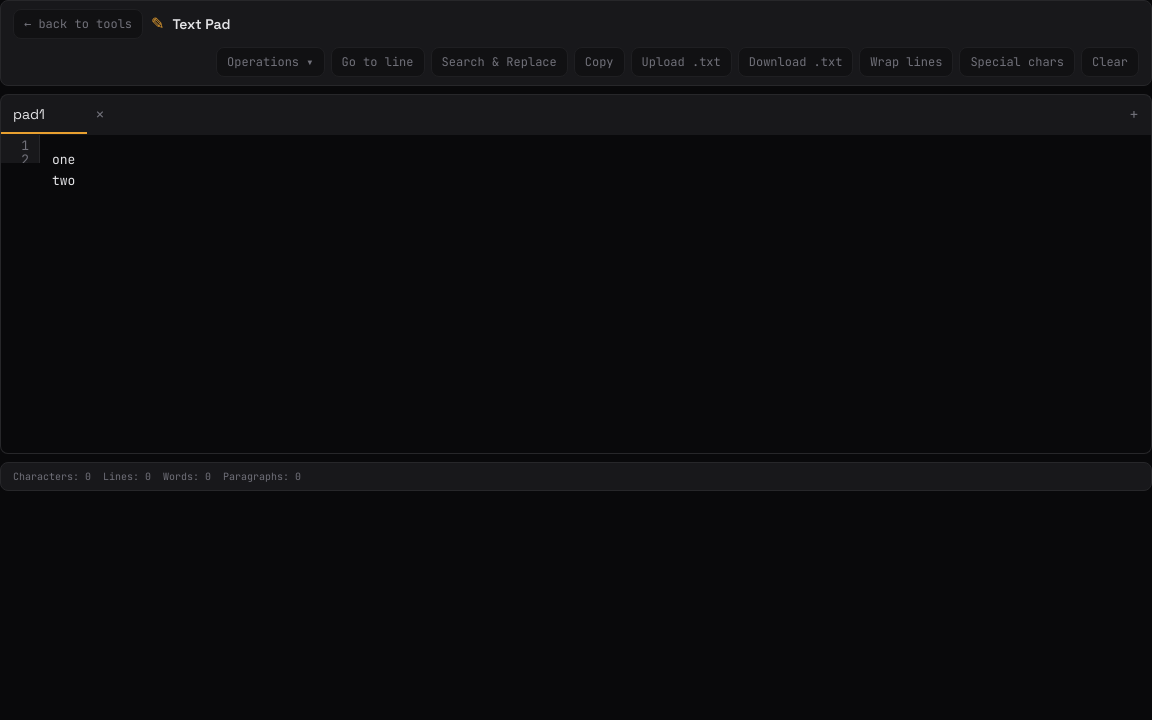
Scenario: TextPadView › shows an error for a line outside the document
Check: the element with class "cm-editor" is shown, box [1, 135, 1151, 206]
Click the button "Go to line".
click(378, 62)  # box [330, 47, 424, 77]
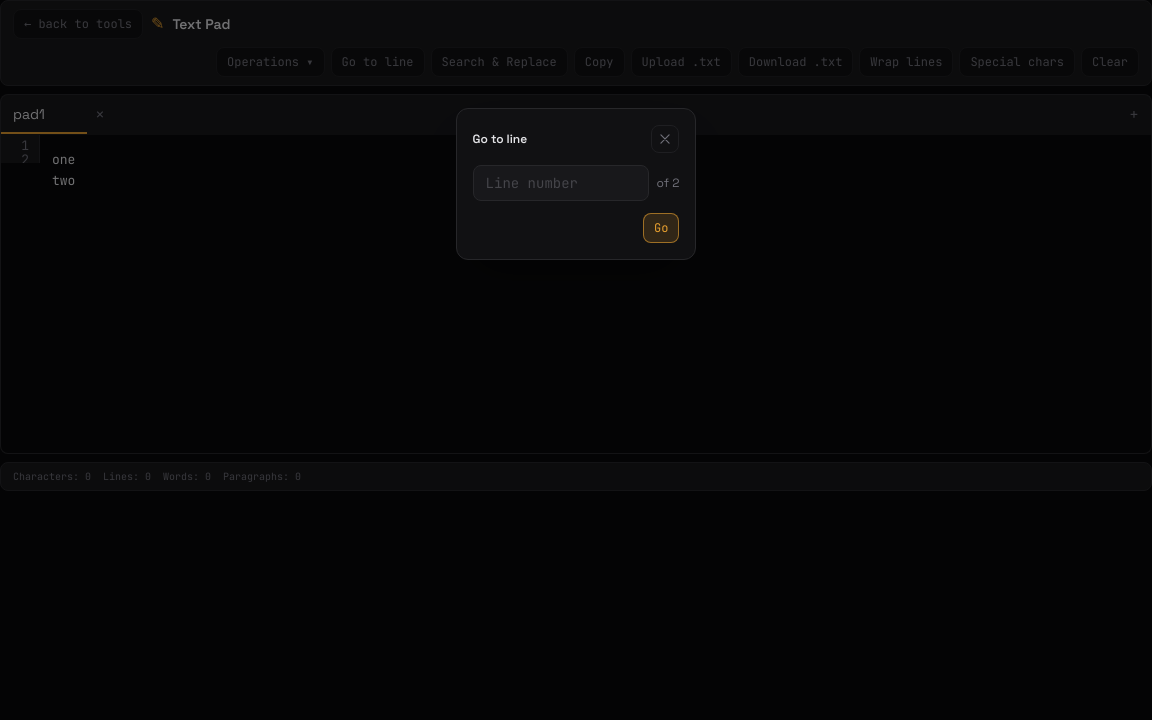
Type "3" into the field with placeholder "Line number".
click(561, 183); type("3")  # box [473, 165, 649, 201]
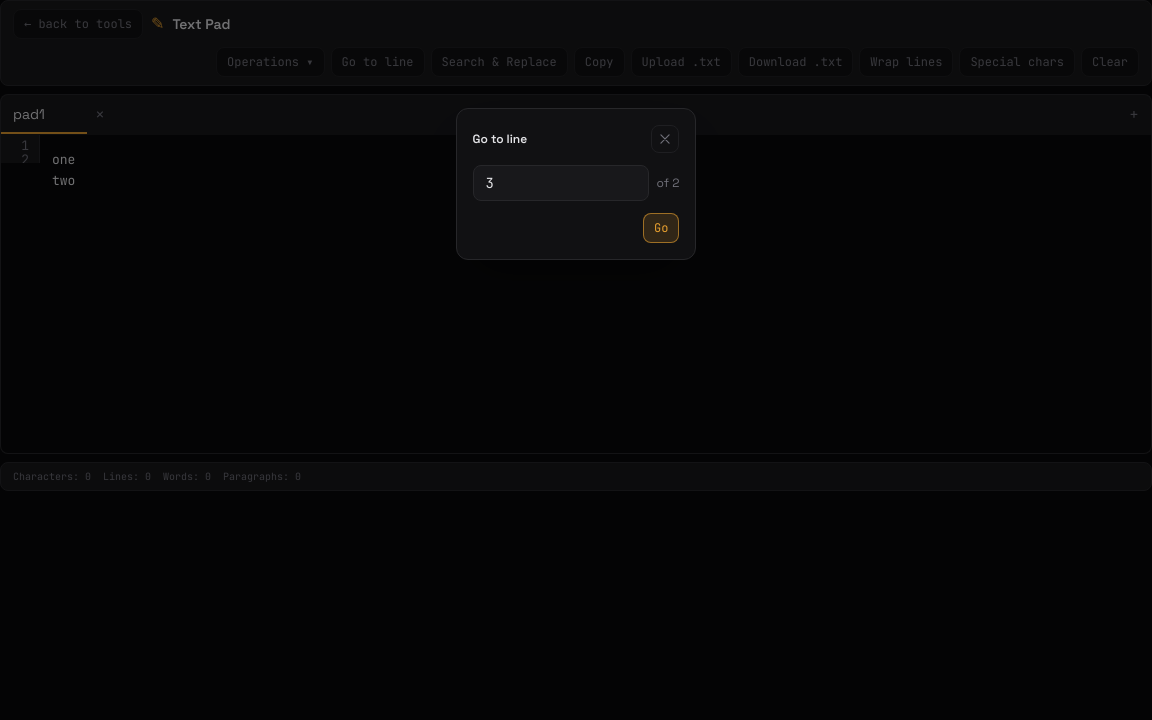
Click the button "Go".
click(661, 228)  # box [643, 213, 679, 243]
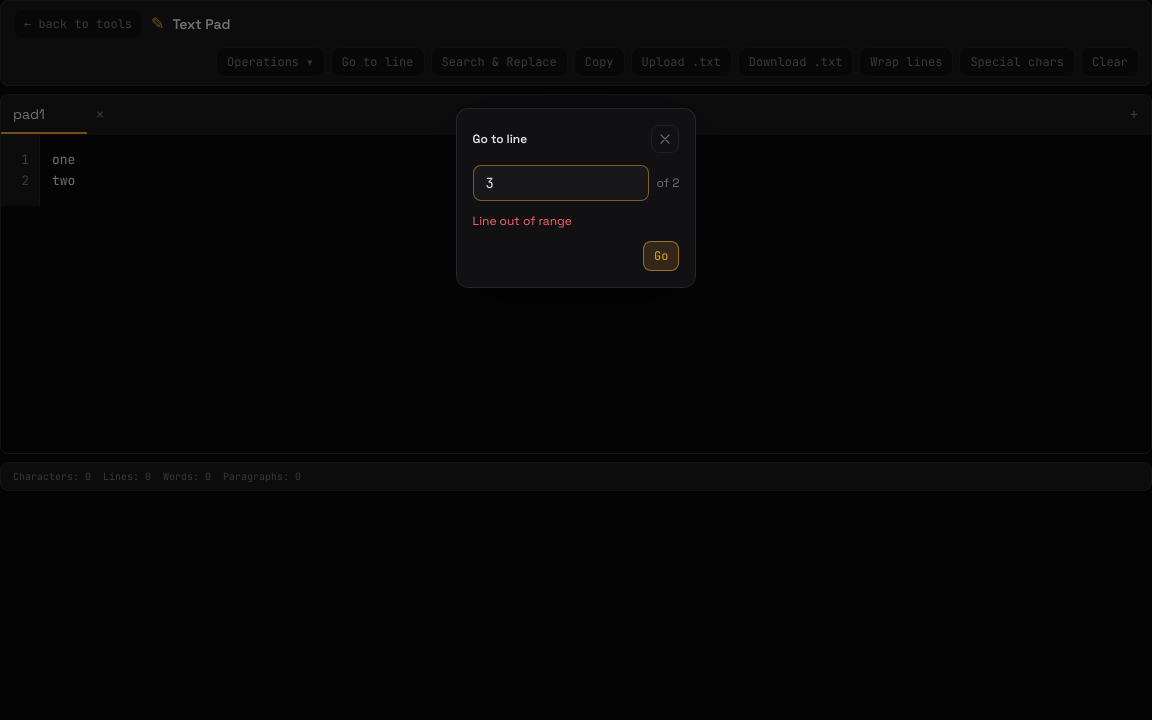
Check: the text "Line out of range" is shown, box [473, 213, 572, 229]
